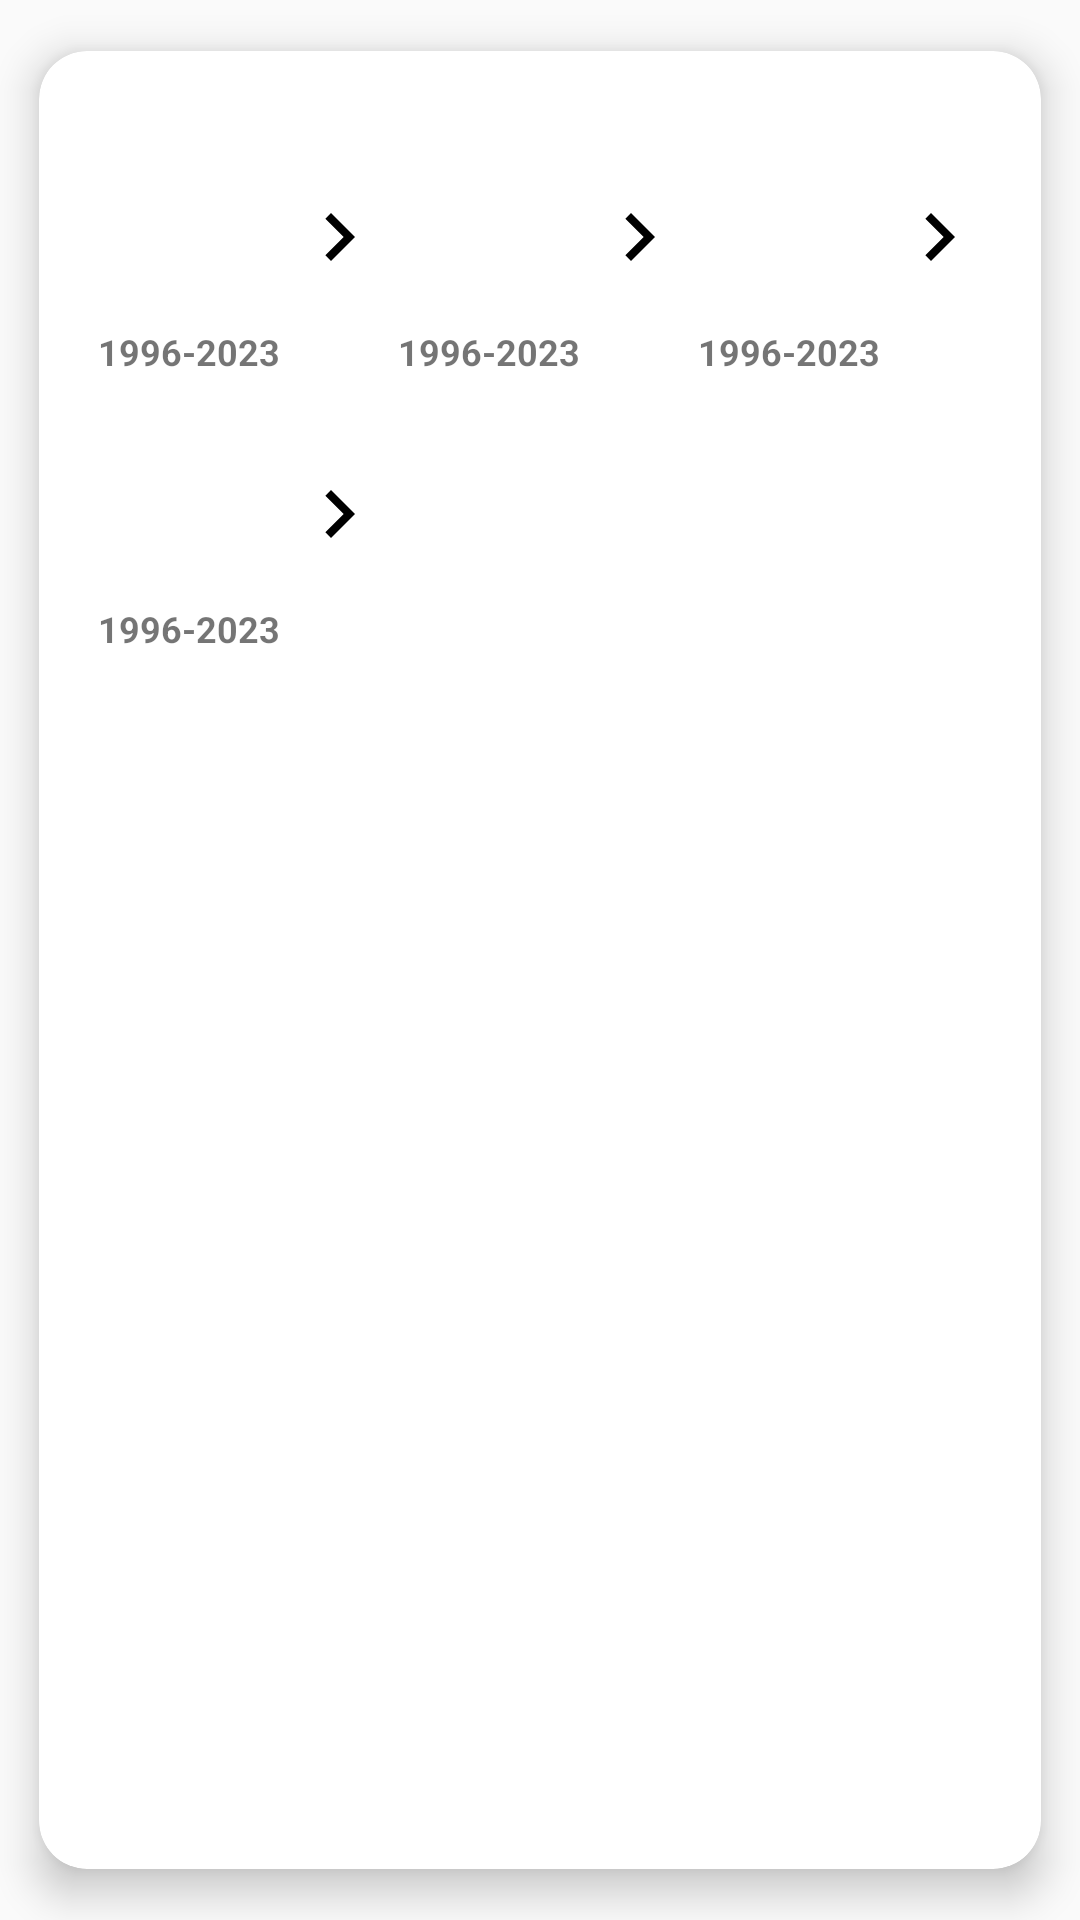

Icons on this 1080px x 1920px Android screen, each with its box as (x1, y1, x2, y2):
arrow right: (325, 213, 355, 261), (625, 213, 655, 261), (925, 213, 955, 261), (325, 490, 355, 538)
